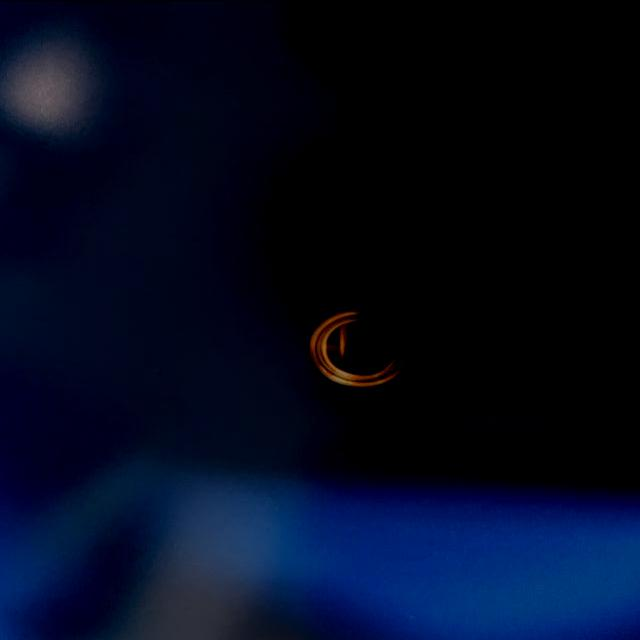COIN: (310, 306, 408, 388)
